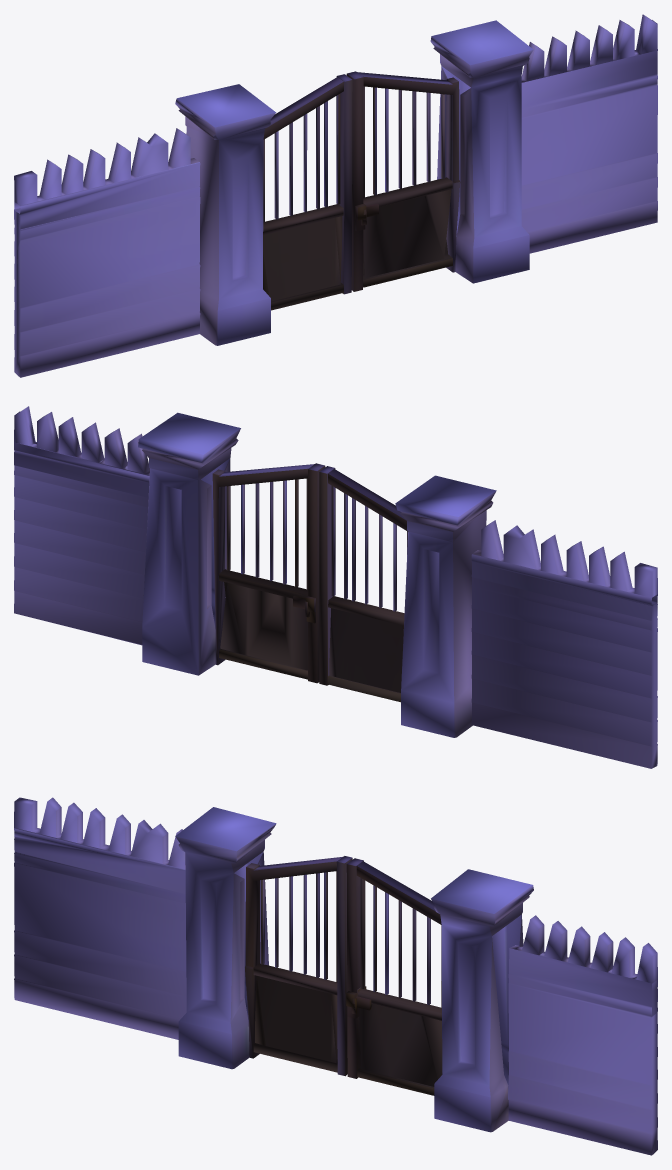
Rendered from model.progressive.glb.
3 renders of one model, top to bottom at view 1: azimuth 30°, elevation 25°; view 2: azimuth 150°, elevation 25°; view 3: azimuth 330°, elevation 25°, orthographic.
Visible parts, largest first — view 1: material; view 2: material; view 3: material.
Boxes of the visible parts, box(x1,y1,x2,y2) form: material: box(14, 14, 657, 377); material: box(14, 406, 657, 768); material: box(14, 797, 657, 1155).
Bounding box in the file's own units: 1.9 × 0.6288 × 0.2051.
1 material, 1 textured.
